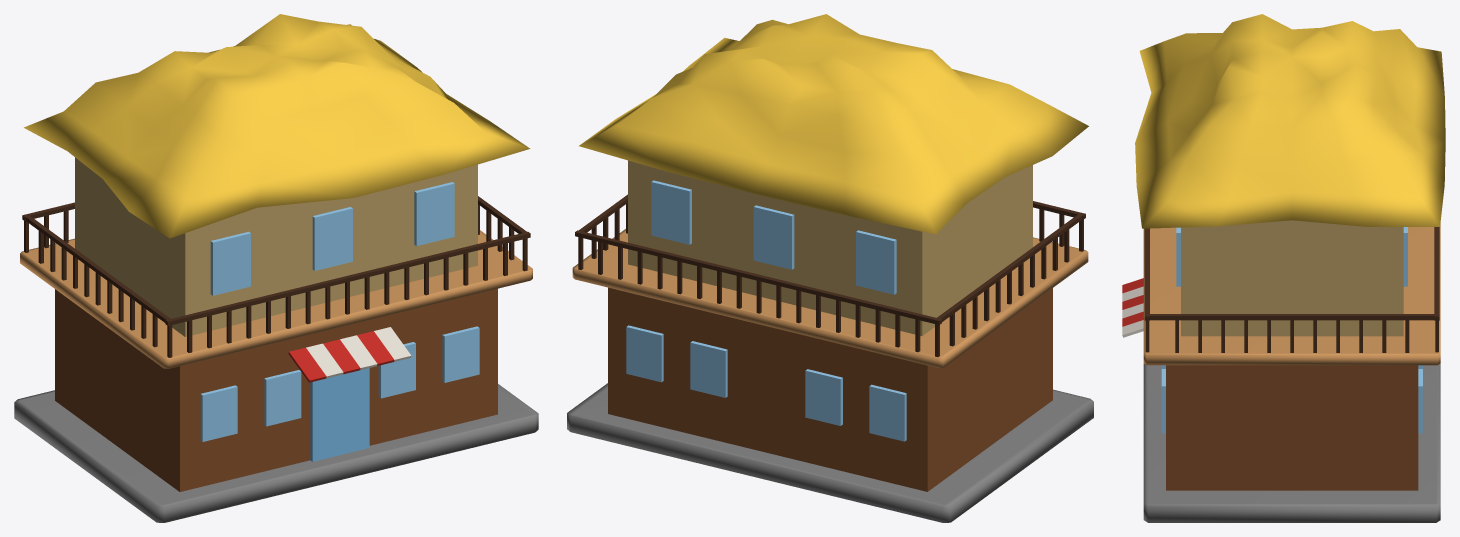
File: hotel1.fbx
3 renders of one model, left to right at view 1: azimuth 30°, elevation 25°; view 2: azimuth 150°, elevation 25°; view 3: azimuth 270°, elevation 25°, orthographic.
Visible parts, largest first — view 1: hotel; view 2: hotel; view 3: hotel.
Boxes of the visible parts, left/top/right/bottom form: hotel: left=14, top=14, right=538, bottom=522; hotel: left=567, top=14, right=1093, bottom=522; hotel: left=1122, top=14, right=1445, bottom=522.
Size of the model in its own units: 6 by 5.68 by 4.36.
1 material, 1 textured.
